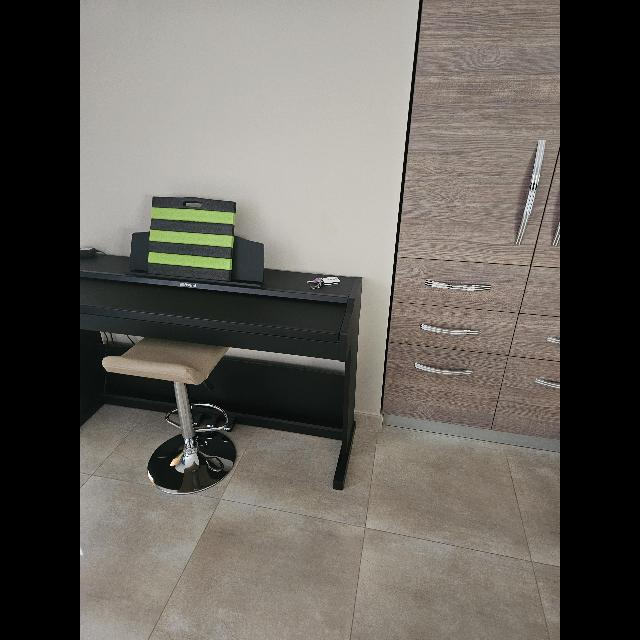Keys: (306, 276, 342, 290)
